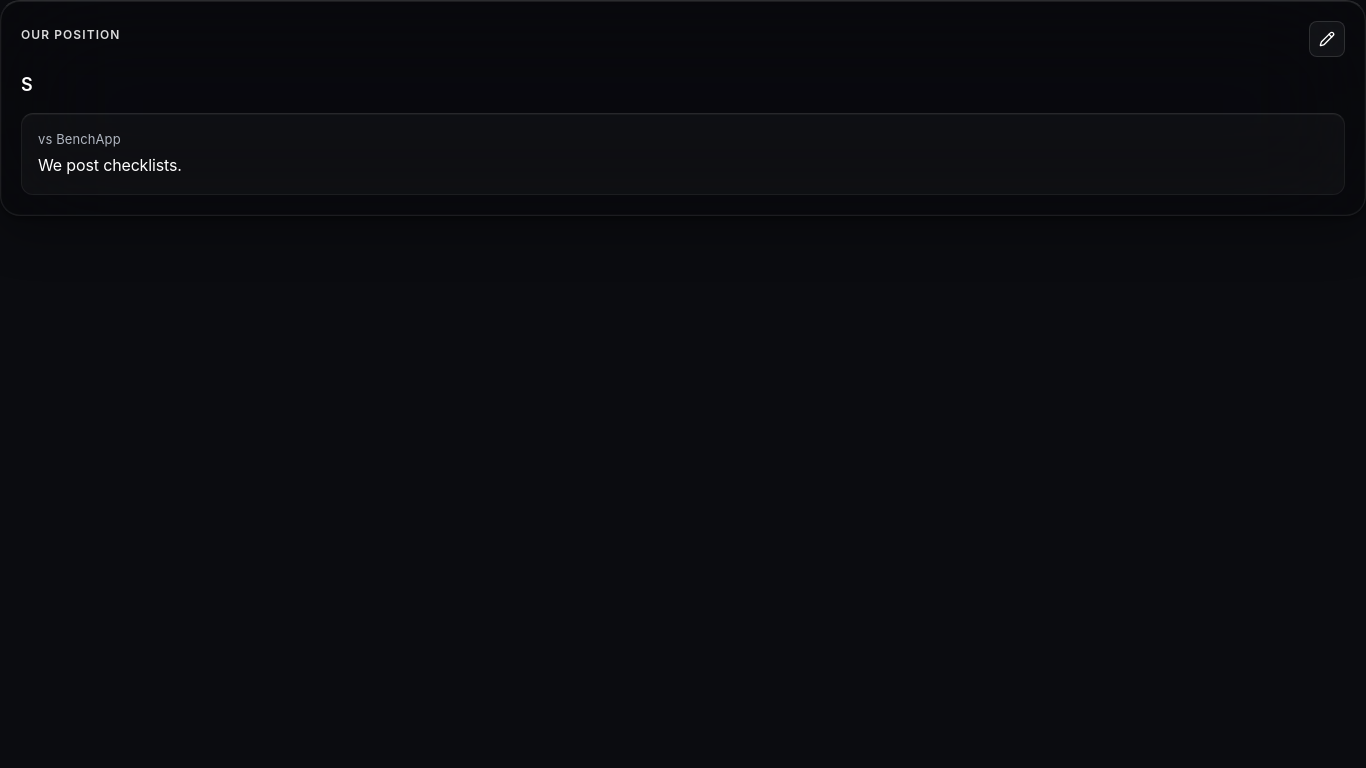
Test: the edit sheet › picks a competitor for each point and waits on a point without one
Later steps or results of the test are not shown.
Click the button named "Edit our position" at {"x": 1327, "y": 39}, box [1309, 21, 1345, 57]
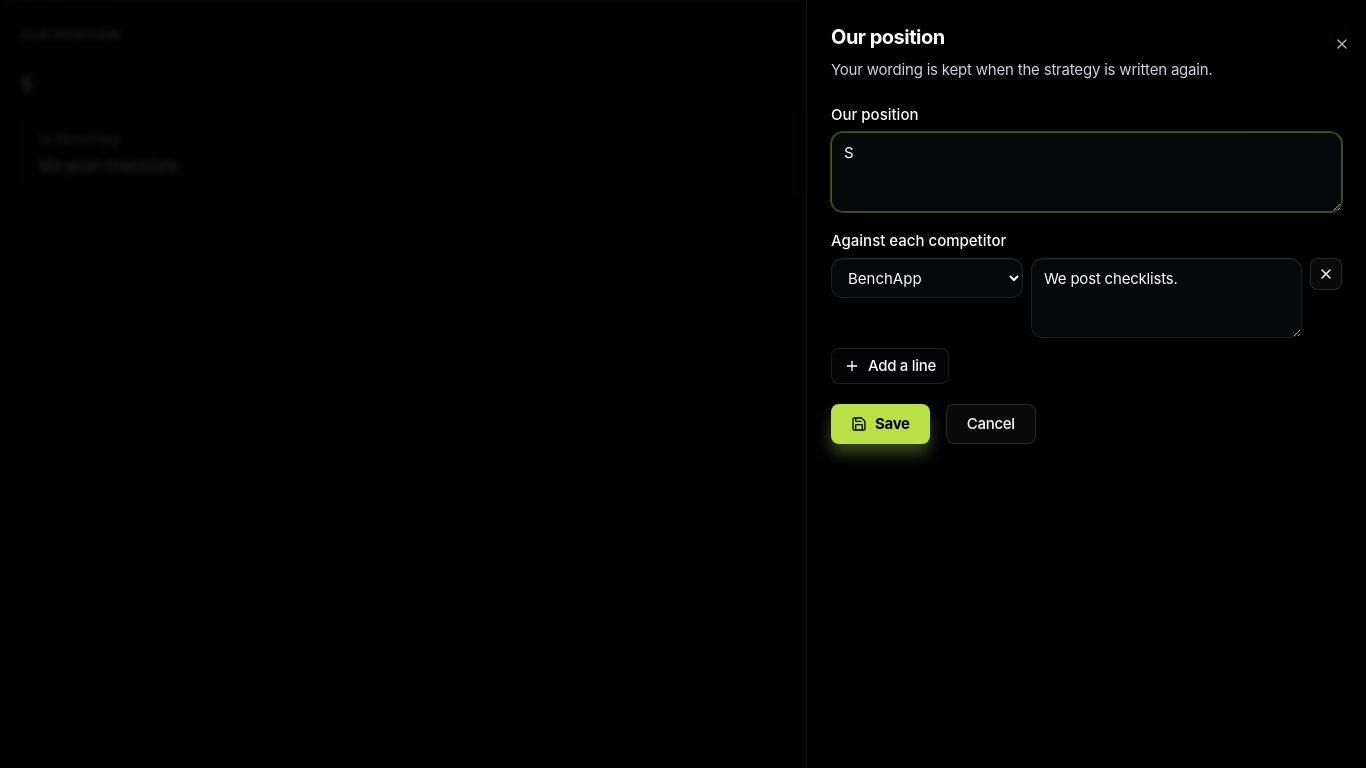
Click the button "Add a line" at {"x": 890, "y": 366}, box [831, 348, 949, 384]
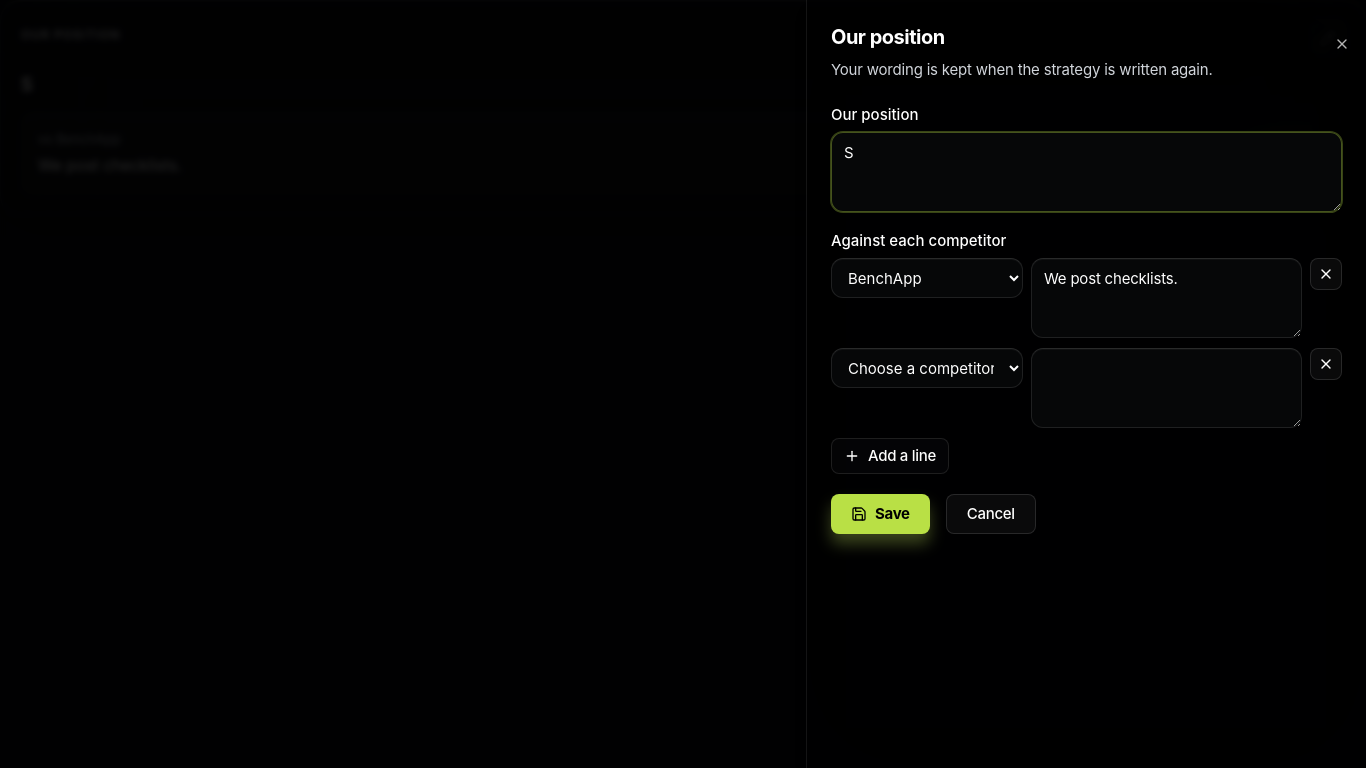
Type "We are faster." into the text box named "Against each competitor 2" at {"x": 1166, "y": 388}, box [1031, 348, 1302, 428]
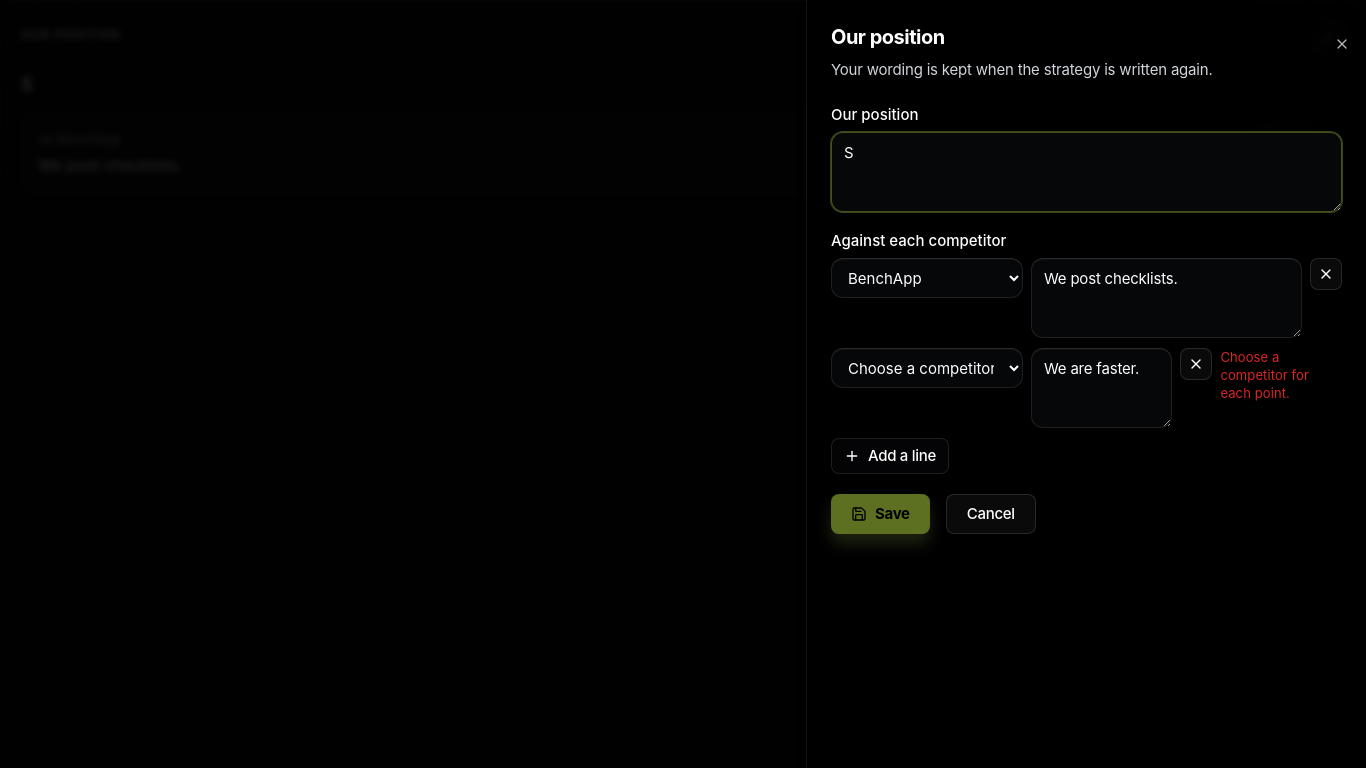
Click the button "Save" at {"x": 880, "y": 514}, box [831, 494, 930, 534]
Result: the text "Choose a competitor for each point." is shown at [1220, 349, 1309, 401]
Result: the button "Save" is disabled at [831, 494, 930, 534]
